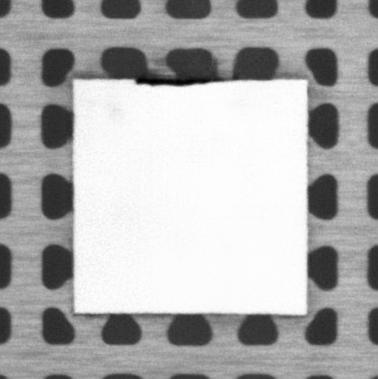DIE_BROKEN: (133, 74, 219, 90)
